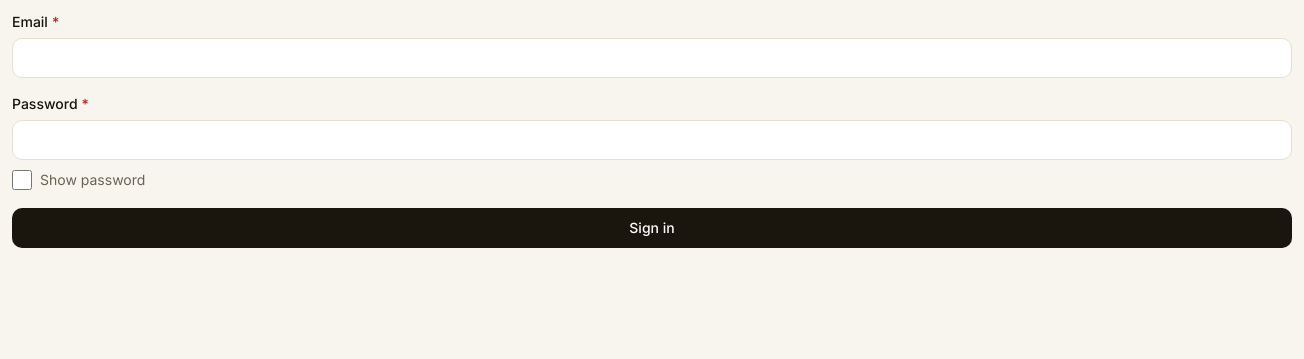
Test: LoginForm › shows the server's message and stays on the page when sign-in fails
The image size is (1304, 359).
Type "a@example.com" into the field labelled "Email*".
click(652, 58); type("a@example.com")  # box [12, 38, 1292, 78]
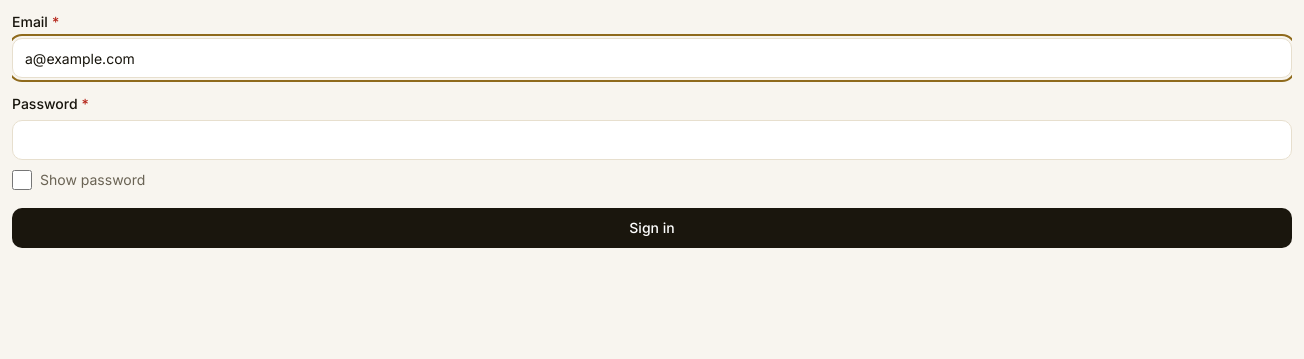
Type "wrong password here" into the password field labelled "Password*".
click(652, 140); type("wrong password here")  # box [12, 120, 1292, 160]
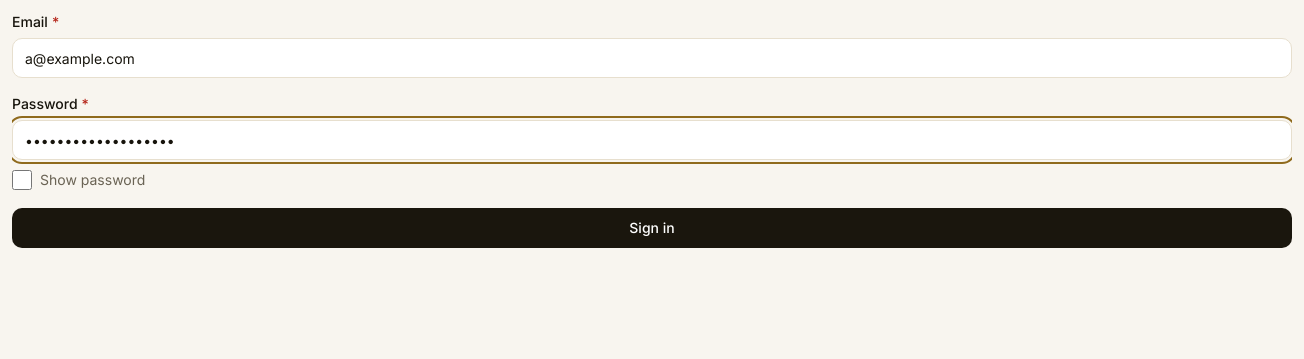
Click the button "Sign in".
click(652, 228)  # box [12, 208, 1292, 248]
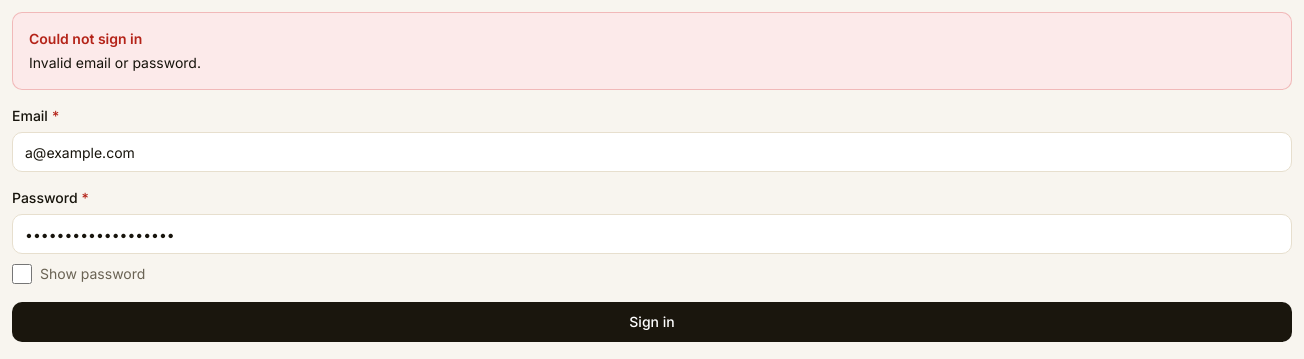
Expected: the message shows "Invalid email or password.", [29, 54, 201, 71]
